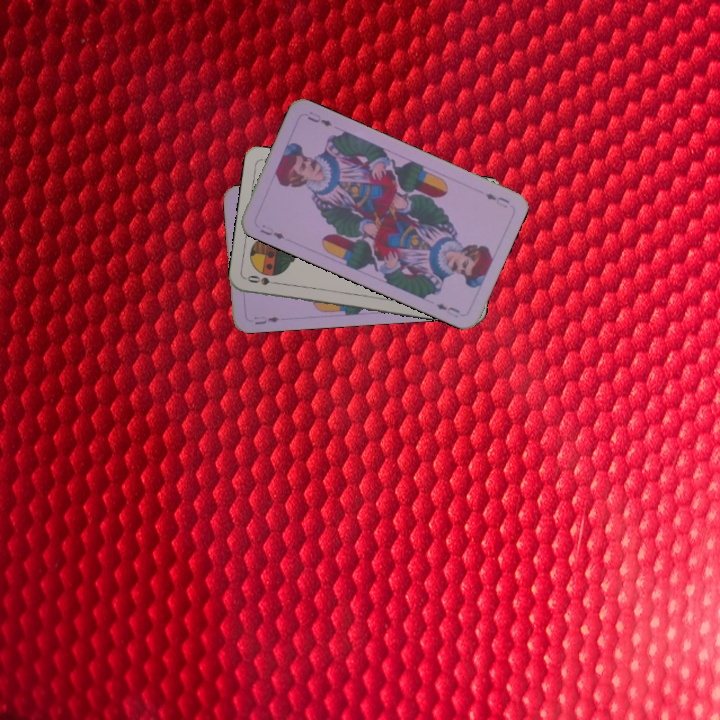EU: (481, 189, 512, 211), (256, 221, 287, 242), (250, 312, 282, 327)
SO: (243, 271, 283, 288)
